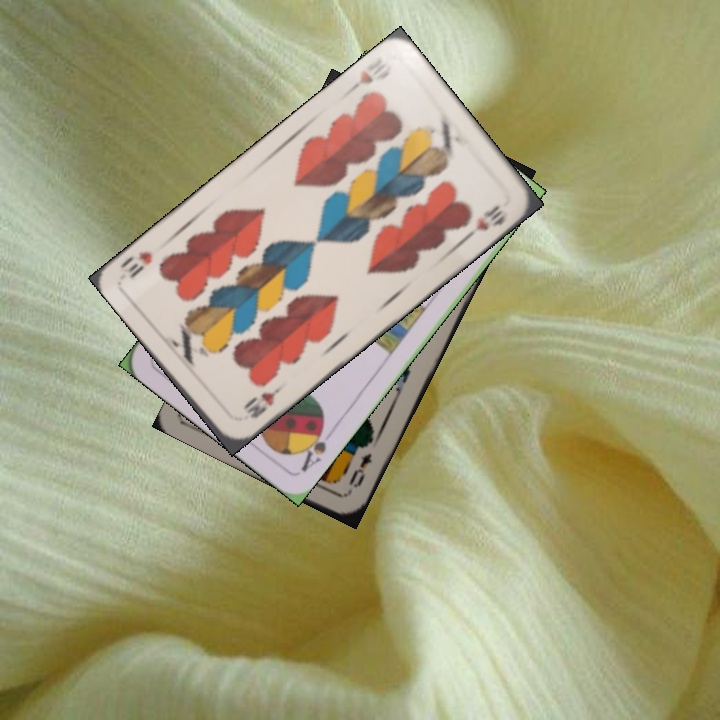EO: (344, 448, 375, 490)
H10: (238, 381, 285, 421), (343, 61, 394, 97)
SA: (296, 418, 329, 475)
